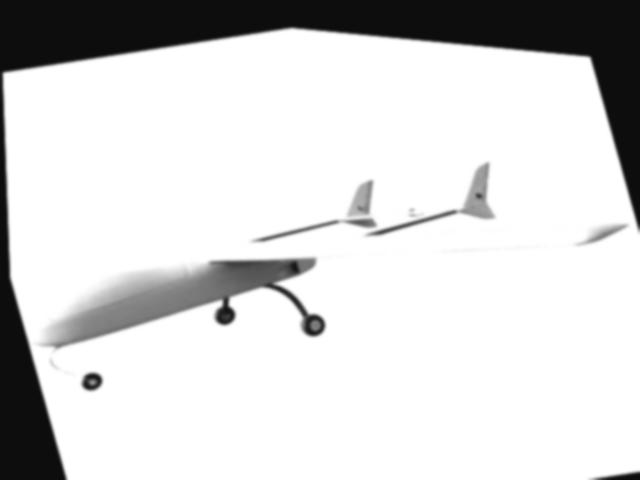uav: (2, 83, 640, 446)
